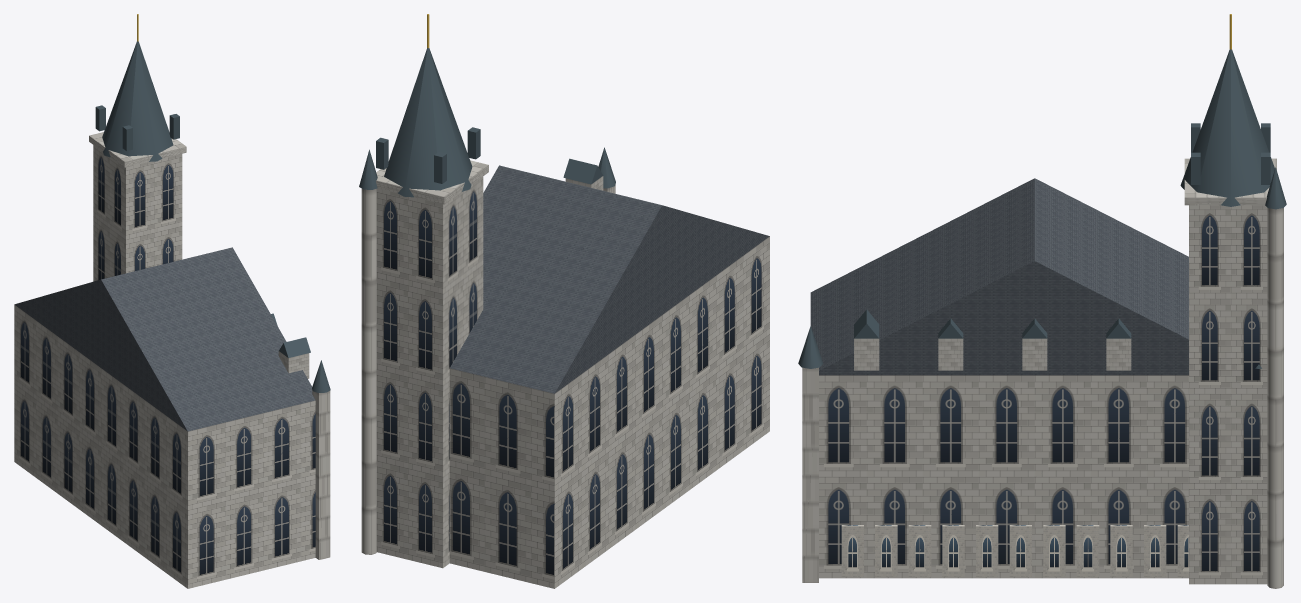
Rendered from oudepost.obj.
3 views of the same model, side by side, from view 1: azimuth 30°, elevation 25°; view 2: azimuth 150°, elevation 25°; view 3: azimuth 270°, elevation 25° (orthographic). The views are drawn at different scales.
Parts seen in each view (by area): view 1: part1, part2, part17, part21, part15, part18.nocast, part11, part12; view 2: part1, part2, part17, part21, part19, part18.nocast, part12; view 3: part1, part2, part17, part21, part19, part15, part30.nocast, part35.nocast, part28.nocast, part29.nocast, part31.nocast, part32.nocast (+10 smaller).
Part boxes in pixels (x1,y1,x2,y2): part1: (14, 305, 315, 588); part2: (14, 247, 315, 431); part17: (93, 145, 182, 281); part21: (102, 41, 173, 161); part15: (312, 390, 330, 559); part18.nocast: (89, 132, 186, 167); part11: (278, 351, 309, 378); part12: (279, 337, 310, 357); part1: (449, 236, 769, 588); part2: (450, 165, 769, 393); part17: (376, 176, 483, 568); part21: (384, 48, 472, 197); part19: (361, 188, 376, 554); part18.nocast: (376, 160, 488, 204); part12: (563, 158, 603, 184); part1: (819, 375, 1188, 578); part2: (810, 178, 1188, 375); part17: (1189, 205, 1267, 584); part21: (1180, 49, 1274, 206); part19: (1267, 208, 1283, 588); part15: (802, 367, 818, 582); part30.nocast: (1076, 525, 1099, 576); part35.nocast: (908, 525, 931, 576); part28.nocast: (1144, 525, 1166, 576); part29.nocast: (1110, 525, 1132, 576); part31.nocast: (1043, 525, 1065, 576); part32.nocast: (1009, 525, 1031, 576).
Bounding box in the file's own units: 16 × 43.5 × 34.9.
Materials: 6 (4 with a texture image).
